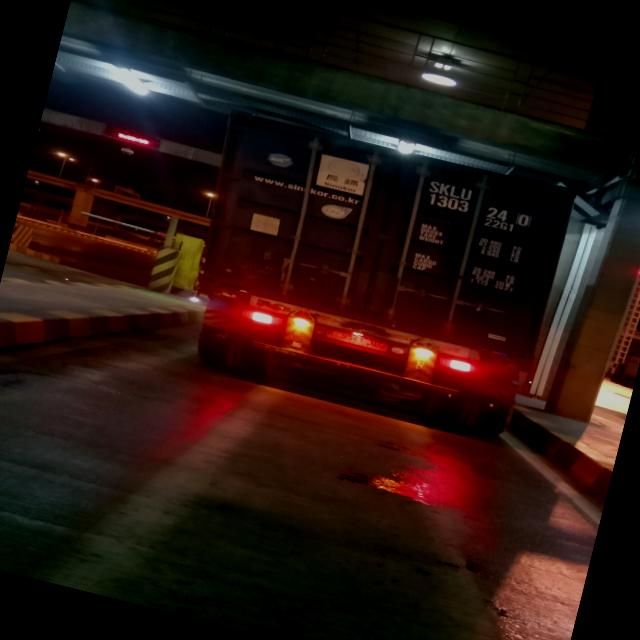seal: (474, 302, 486, 312), (388, 318, 400, 328)
